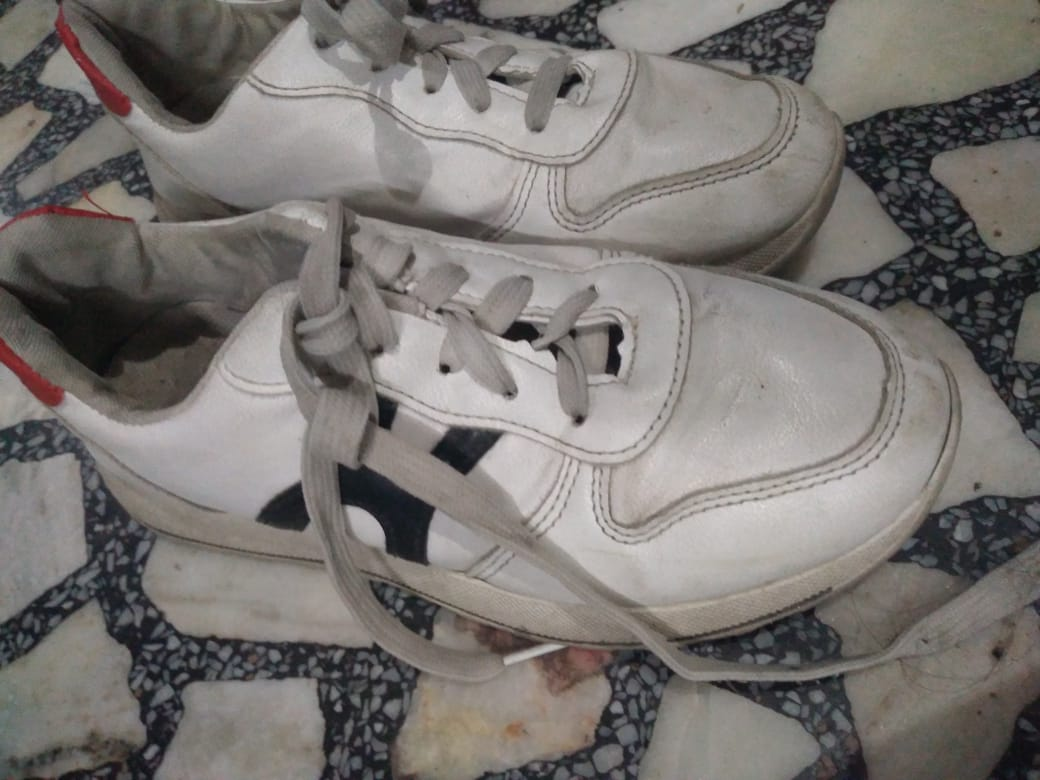Footwear: (6, 185, 1025, 675)
